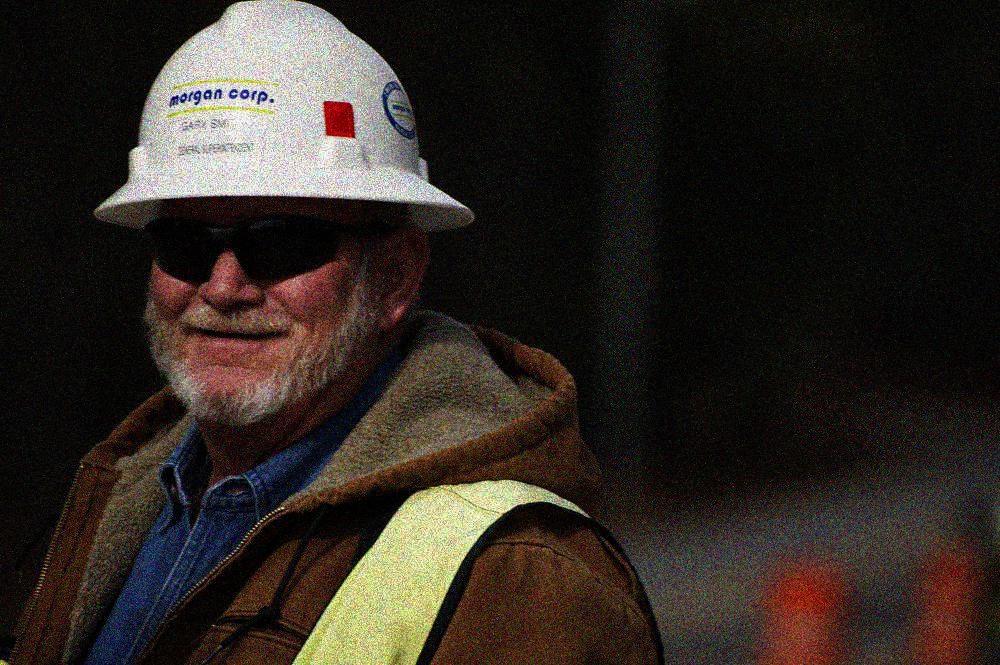helmet: (97, 1, 480, 437)
